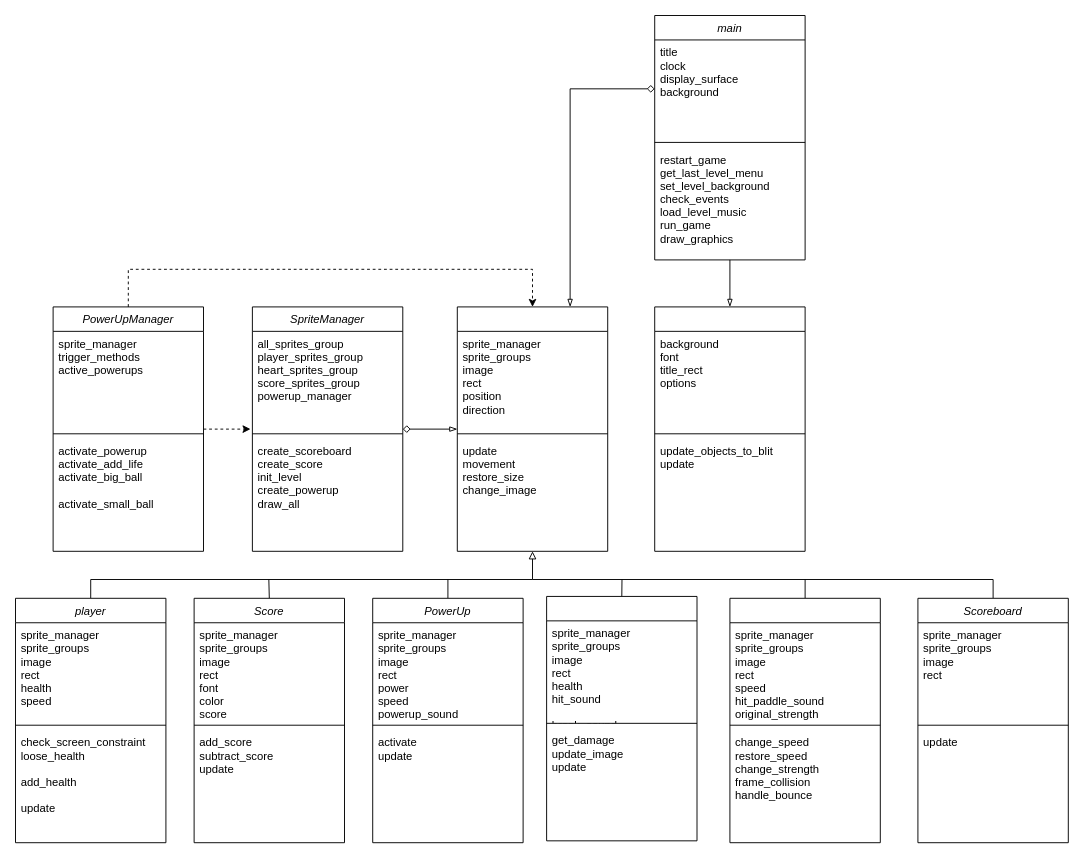
Some shapes in this 1084 by 858 pixel diagram are drawn without their labels. Here are the shapes that lost their labels. From the top down, the box of each, then its label:
(456, 306, 608, 551): _GameSprite
(654, 306, 805, 551): mainmenu
(546, 595, 697, 841): Blocks
(729, 597, 880, 843): Ball
